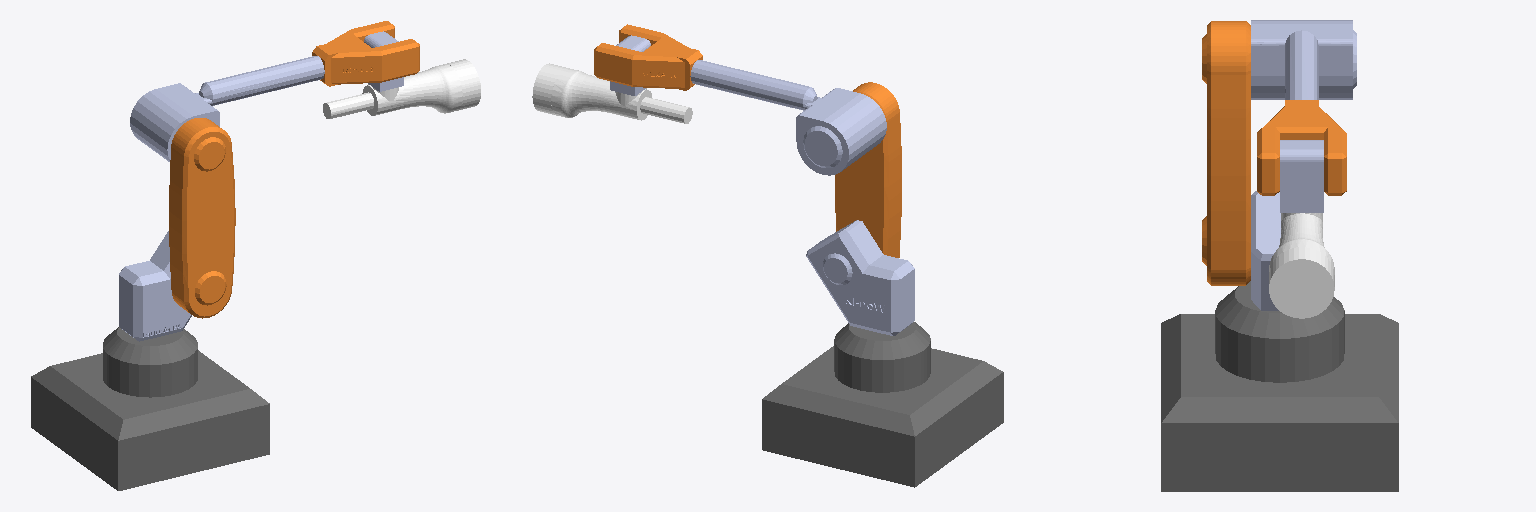
The robot description file, URDF, robot "mirobot_urdf":
<?xml version="1.0" encoding="utf-8"?>
<!-- This URDF was automatically created by SolidWorks to URDF Exporter! Originally created by [author] ([email redacted]) 
     Commit Version: 1.6.0-1-g15f4949  Build Version: 1.6.7594.29634
     For more information, please see http://wiki.ros.org/sw_urdf_exporter -->
<robot
  name="mirobot_urdf">
  <link
    name="base_link">
    <inertial>
      <origin
        xyz="0 -1.73472347597681E-18 0.0295630938396228"
        rpy="0 0 0" />
      <mass
        value="0.830460463625083" />
      <inertia
        ixx="0.00122515441017336"
        ixy="5.06212586523845E-39"
        ixz="-9.27088146783836E-21"
        iyy="0.00122515441017336"
        iyz="-2.14545897338503E-21"
        izz="0.00181346064064253" />
    </inertial>
    <visual>
      <origin
        xyz="0 0 0"
        rpy="0 0 0" />
      <geometry>
        <mesh
          filename="package://mirobot_urdf/meshes/base_link.STL" />
      </geometry>
      <material
        name="">
        <color
          rgba="0.47843137254902 0.47843137254902 0.47843137254902 1" />
      </material>
    </visual>
    <collision>
      <origin
        xyz="0 0 0"
        rpy="0 0 0" />
      <geometry>
        <mesh
          filename="package://mirobot_urdf/meshes/base_link_collision.STL" />
      </geometry>
    </collision>
  </link>
  <link
    name="link1">
    <inertial>
      <origin
        xyz="0.0139204674030074 0.000175675755774408 0.0278204776833535"
        rpy="0 0 0" />
      <mass
        value="0.100783545378023" />
      <inertia
        ixx="3.54957422514902E-05"
        ixy="-2.36772178333946E-07"
        ixz="-1.29966775792725E-05"
        iyy="6.20674035359101E-05"
        iyz="-1.81648408097106E-07"
        izz="4.09412060690147E-05" />
    </inertial>
    <visual>
      <origin
        xyz="0 0 0"
        rpy="0 0 0" />
      <geometry>
        <mesh
          filename="package://mirobot_urdf/meshes/link1.STL" />
      </geometry>
      <material
        name="">
        <color
          rgba="0.792156862745098 0.819607843137255 0.933333333333333 1" />
      </material>
    </visual>
    <collision>
      <origin
        xyz="0 0 0"
        rpy="0 0 0" />
      <geometry>
        <mesh
          filename="package://mirobot_urdf/meshes/link1_collision.STL" />
      </geometry>
    </collision>
  </link>
  <joint
    name="Joint1"
    type="revolute">
    <origin
      xyz="0 0 0.08907"
      rpy="0 0 0" />
    <parent
      link="base_link" />
    <child
      link="link1" />
    <axis
      xyz="0 0 1" />
    <limit
      lower="-1.919"
      upper="2.792"
      effort="10"
      velocity="1.484" />
  </joint>
  <link
    name="link2">
    <inertial>
      <origin
        xyz="-0.000285886360290435 -0.0166552740240192 0.049757717069139"
        rpy="0 0 0" />
      <mass
        value="0.132170739177703" />
      <inertia
        ixx="0.000214469616122437"
        ixy="4.08289814520086E-10"
        ixz="6.39020671260653E-07"
        iyy="0.000225756619197558"
        iyz="4.14008992711757E-08"
        izz="2.33050461983938E-05" />
    </inertial>
    <visual>
      <origin
        xyz="0 0 0"
        rpy="0 0 0" />
      <geometry>
        <mesh
          filename="package://mirobot_urdf/meshes/link2.STL" />
      </geometry>
      <material
        name="">
        <color
          rgba="1 0.6 0.247058823529412 1" />
      </material>
    </visual>
    <collision>
      <origin
        xyz="0 0 0"
        rpy="0 0 0" />
      <geometry>
        <mesh
          filename="package://mirobot_urdf/meshes/link2_collision.STL" />
      </geometry>
    </collision>
  </link>
  <joint
    name="Joint2"
    type="revolute">
    <origin
      xyz="0.026689 -0.01 0.037919"
      rpy="0 0 0" />
    <parent
      link="link1" />
    <child
      link="link2" />
    <axis
      xyz="0 1 0" />
    <limit
      lower="-0.611"
      upper="1.222"
      effort="10"
      velocity="1.047" />
  </joint>
  <link
    name="link3">
    <inertial>
      <origin
        xyz="0.0158954987739833 0.0218157412359182 0.00468222502163174"
        rpy="0 0 0" />
      <mass
        value="0.0999858744473074" />
      <inertia
        ixx="3.50335003907214E-05"
        ixy="8.27653396401829E-07"
        ixz="-2.38306289339889E-05"
        iyy="0.000119385641846118"
        iyz="2.43801748853214E-07"
        izz="0.000122716522763449" />
    </inertial>
    <visual>
      <origin
        xyz="0 0 0"
        rpy="0 0 0" />
      <geometry>
        <mesh
          filename="package://mirobot_urdf/meshes/link3.STL" />
      </geometry>
      <material
        name="">
        <color
          rgba="0.792156862745098 0.819607843137255 0.933333333333333 1" />
      </material>
    </visual>
    <collision>
      <origin
        xyz="0 0 0"
        rpy="0 0 0" />
      <geometry>
        <mesh
          filename="package://mirobot_urdf/meshes/link3_collision.STL" />
      </geometry>
    </collision>
  </link>
  <joint
    name="Joint3"
    type="revolute">
    <origin
      xyz="-0.00052147 0 0.10356"
      rpy="0 0 0" />
    <parent
      link="link2" />
    <child
      link="link3" />
    <axis
      xyz="0 1 0" />
    <limit
      lower="-2.094"
      upper="1.047"
      effort="10"
      velocity="1.134" />
  </joint>
  <link
    name="link4">
    <inertial>
      <origin
        xyz="0.0397448300249128 -3.52690543263534E-07 8.51158590914336E-07"
        rpy="0 0 0" />
      <mass
        value="0.0455776802932786" />
      <inertia
        ixx="1.02362105187764E-05"
        ixy="-3.09042973810874E-10"
        ixz="4.93005005983085E-10"
        iyy="1.74414096073689E-05"
        iyz="-3.59690099161977E-11"
        izz="2.34678990160725E-05" />
    </inertial>
    <visual>
      <origin
        xyz="0 0 0"
        rpy="0 0 0" />
      <geometry>
        <mesh
          filename="package://mirobot_urdf/meshes/link4.STL" />
      </geometry>
      <material
        name="">
        <color
          rgba="1 0.6 0.247058823529412 1" />
      </material>
    </visual>
    <collision>
      <origin
        xyz="0 0 0"
        rpy="0 0 0" />
      <geometry>
        <mesh
          filename="package://mirobot_urdf/meshes/link4_collision.STL" />
      </geometry>
    </collision>
  </link>
  <joint
    name="Joint4"
    type="revolute">
    <origin
      xyz="0.11123 0.021295 0.019995"
      rpy="0 0 0" />
    <parent
      link="link3" />
    <child
      link="link4" />
    <axis
      xyz="-1 0 0" />
    <limit
      lower="-3.142"
      upper="3.142"
      effort="10"
      velocity="3.49" />
  </joint>
  <link
    name="link5">
    <inertial>
      <origin
        xyz="1.36127220606852E-13 0.00629500118952138 0.00755281484467515"
        rpy="0 0 0" />
      <mass
        value="0.0143827723830484" />
      <inertia
        ixx="1.94302435347813E-06"
        ixy="2.82362999964957E-14"
        ixz="3.73150978210105E-17"
        iyy="1.83052685569596E-06"
        iyz="1.73296816140335E-11"
        izz="1.09303987751683E-06" />
    </inertial>
    <visual>
      <origin
        xyz="0 0 0"
        rpy="0 0 0" />
      <geometry>
        <mesh
          filename="package://mirobot_urdf/meshes/link5.STL" />
      </geometry>
      <material
        name="">
        <color
          rgba="0.792156862745098 0.819607843137255 0.933333333333333 1" />
      </material>
    </visual>
    <collision>
      <origin
        xyz="0 0 0"
        rpy="0 0 0" />
      <geometry>
        <mesh
          filename="package://mirobot_urdf/meshes/link5_collision.STL" />
      </geometry>
    </collision>
  </link>
  <joint
    name="Joint5"
    type="revolute">
    <origin
      xyz="0.05775 0.006295 0"
      rpy="3.1416 0 0" />
    <parent
      link="link4" />
    <child
      link="link5" />
    <axis
      xyz="0 -1 0" />
    <limit
      lower="-3.49"
      upper="0.523"
      effort="10"
      velocity="3490" />
  </joint>
  <link
    name="link6">
    <inertial>
      <origin
        xyz="0.0204857453646831 -3.59449001698792E-07 -0.0175088771378945"
        rpy="0 0 0" />
      <mass
        value="0.0381323787621174" />
      <inertia
        ixx="3.5467614209665E-06"
        ixy="1.29728264109457E-11"
        ixz="1.8330055985815E-06"
        iyy="2.62395180142313E-05"
        iyz="-8.9373167517803E-11"
        izz="2.59682850543536E-05" />
    </inertial>
    <visual>
      <origin
        xyz="0 0 0"
        rpy="0 0 0" />
      <geometry>
        <mesh
          filename="package://mirobot_urdf/meshes/link6.STL" />
      </geometry>
      <material
        name="">
        <color
          rgba="1 1 1 1" />
      </material>
    </visual>
    <collision>
      <origin
        xyz="0 0 0"
        rpy="3.14159 0 3.14159" />
      <geometry>
        <mesh
          filename="package://mirobot_urdf/meshes/link6_collision.STL" />
      </geometry>
    </collision>
  </link>
  <joint
    name="Joint6"
    type="revolute">
    <origin
      xyz="0 0.0062949 0.019304"
      rpy="3.1416 0 0" />
    <parent
      link="link5" />
    <child
      link="link6" />
    <axis
      xyz="0 2.7322E-05 1" />
    <limit
      lower="-6.283"
      upper="6.283"
      effort="10"
      velocity="7.854" />
  </joint>
  <link
    name="link61">
    <inertial>
      <origin
        xyz="0.0049999999981338 1.36611643736934E-07 -0.106942148760331"
        rpy="0 0 0" />
      <mass
        value="0.112186666358773" />
      <inertia
        ixx="1.05678287095848E-05"
        ixy="4.71171791974171E-22"
        ixz="-4.5278500442868E-22"
        iyy="1.05678287095848E-05"
        iyz="1.77213333993801E-21"
        izz="1.55382009766395E-05" />
    </inertial>
    <visual>
      <origin
        xyz="0 0 0"
        rpy="0 0 0" />
      <geometry>
        <mesh
          filename="package://mirobot_urdf/meshes/link61.STL" />
      </geometry>
      <material
        name="">
        <color
          rgba="1 1 1 1" />
      </material>
    </visual>
    <collision>
      <origin
        xyz="0 0 0"
        rpy="0 0 0" />
      <geometry>
        <mesh
          filename="package://mirobot_urdf/meshes/link61.STL" />
      </geometry>
    </collision>
  </link>
  <joint
    name="Joint61"
    type="fixed">
    <origin
      xyz="-0.046 0 -0.016"
      rpy="3.1416 1.5708 0" />
    <parent
      link="link6" />
    <child
      link="link61" />
    <axis
      xyz="0 0 0" />
  </joint>
</robot>

--- Render facts (derived) ---
3 views of the same robot in one strip: view 1: azimuth 30°, elevation 25°; view 2: azimuth 150°, elevation 25°; view 3: azimuth 270°, elevation 25° (orthographic).
Model mirobot_urdf with 8 links and 7 joints (6 revolute, 1 fixed), rooted at base_link, posed every joint at zero.
Visible links, largest first — view 1: base_link, link2, link3, link1, link4, link6, link61, link5; view 2: base_link, link3, link1, link2, link4, link6, link61, link5; view 3: base_link, link2, link3, link4, link61, link5, link1, link6.
Boxes of the visible links, bbox=[...] form: base_link: bbox=[31, 327, 269, 490]; link2: bbox=[169, 118, 235, 318]; link3: bbox=[130, 56, 324, 161]; link1: bbox=[119, 231, 191, 341]; link4: bbox=[312, 21, 419, 86]; link6: bbox=[323, 64, 462, 118]; link61: bbox=[447, 59, 480, 110]; link5: bbox=[364, 31, 403, 91]; base_link: bbox=[762, 322, 1003, 487]; link3: bbox=[690, 60, 886, 175]; link1: bbox=[806, 220, 914, 335]; link2: bbox=[835, 82, 901, 257]; link4: bbox=[594, 24, 702, 90]; link6: bbox=[551, 68, 692, 123]; link61: bbox=[532, 63, 565, 115]; link5: bbox=[610, 35, 650, 95]; base_link: bbox=[1161, 281, 1398, 491]; link2: bbox=[1202, 21, 1250, 285]; link3: bbox=[1251, 20, 1356, 99]; link4: bbox=[1257, 100, 1346, 195]; link61: bbox=[1269, 247, 1334, 318]; link5: bbox=[1280, 140, 1323, 212]; link1: bbox=[1251, 191, 1280, 310]; link6: bbox=[1269, 213, 1334, 274].
Size in the robot's own frame: 0.3255 by 0.1228 by 0.2628 metres.
Meshes: 8 distinct files referenced, 8 mesh visuals loaded (8 binary STL).